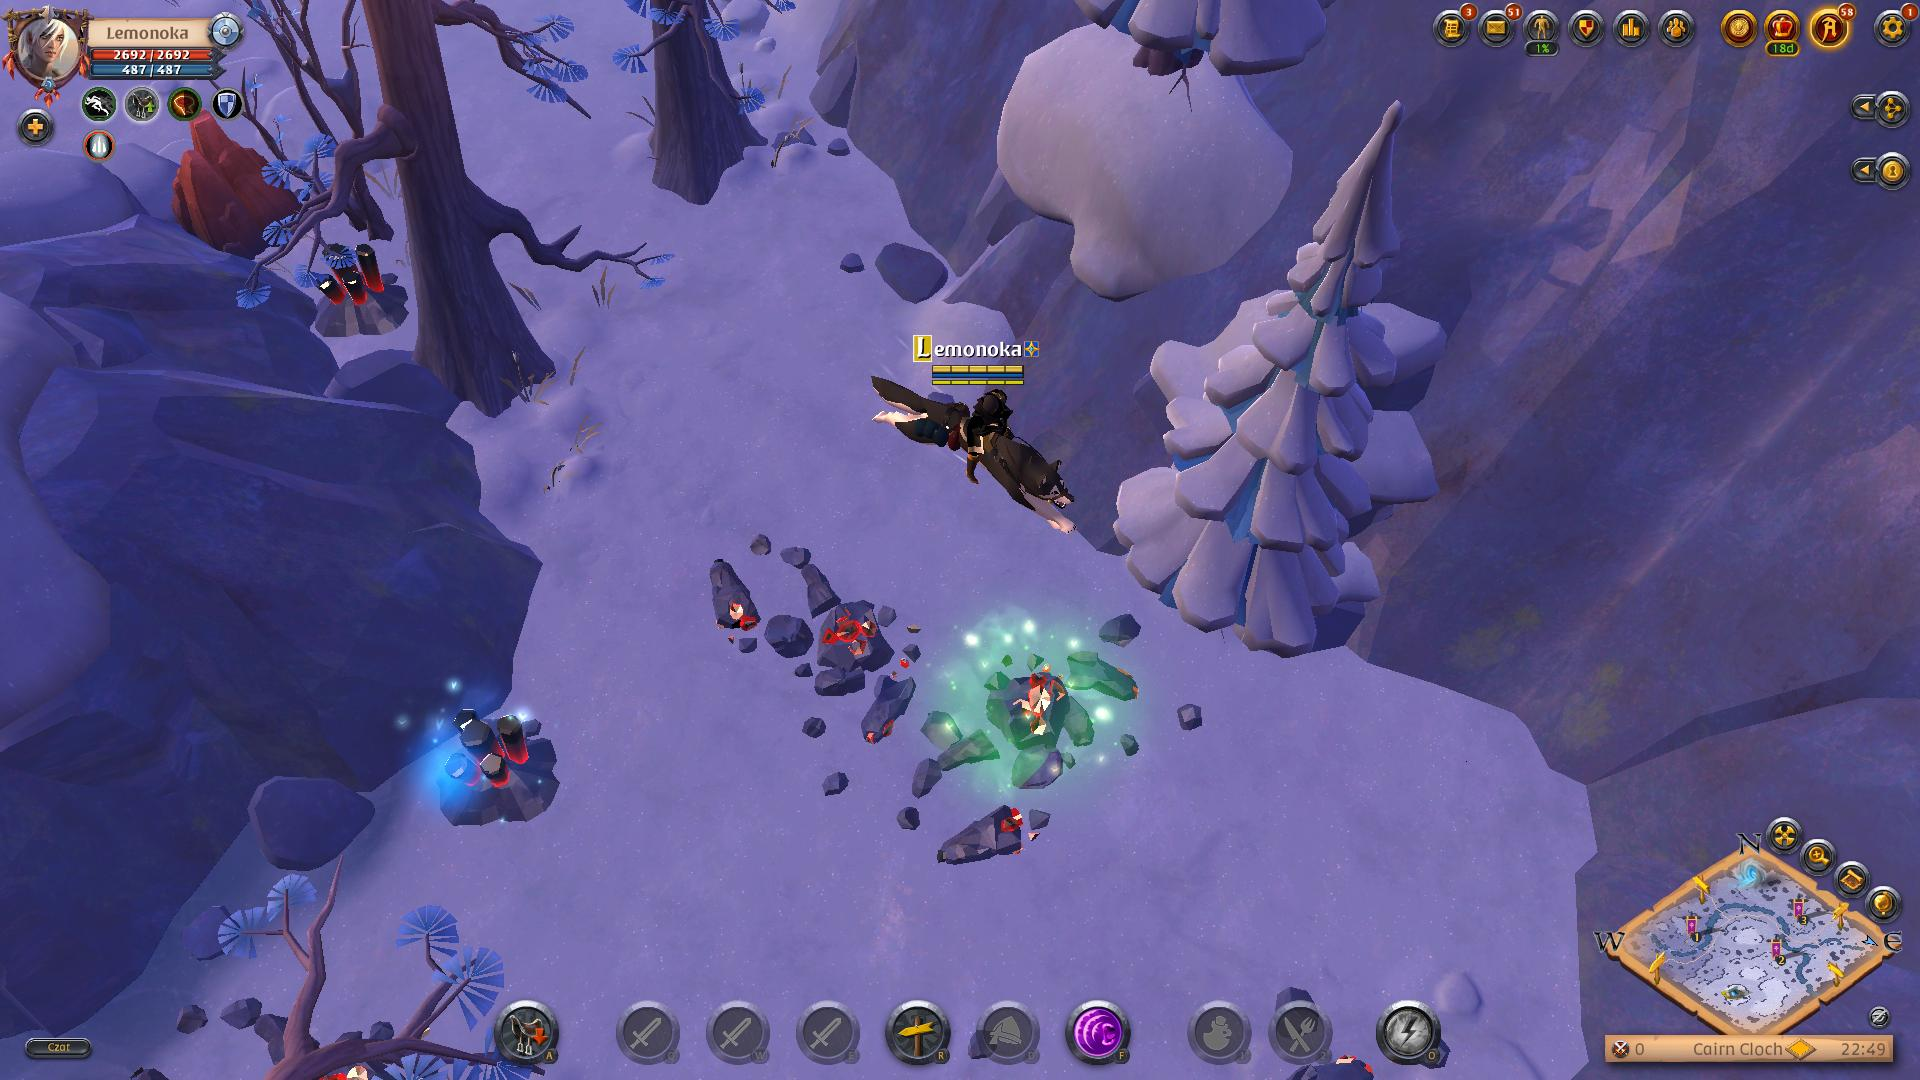ore tier 5: (434, 705, 578, 849), (319, 247, 396, 336)
